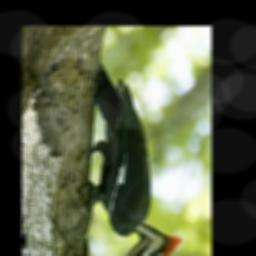Woodpecker: (88, 63, 184, 256)
